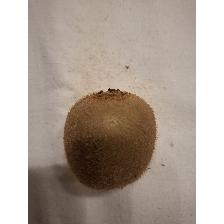Kiwi: (61, 86, 158, 194)
